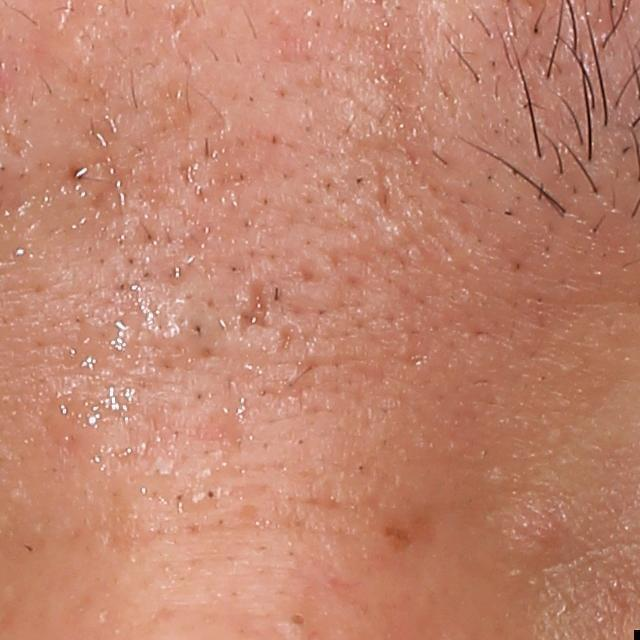atrophic_scar: (357, 58, 423, 176), (83, 124, 137, 218), (195, 398, 244, 456), (235, 278, 274, 336), (373, 160, 395, 221)
comedo: (273, 607, 321, 640)
